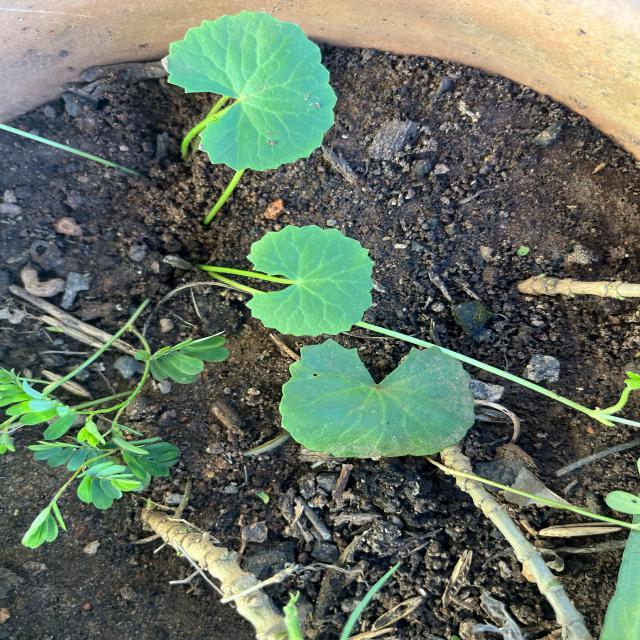Centella asiatica: (158, 7, 340, 174), (276, 336, 478, 461), (242, 222, 376, 339)
